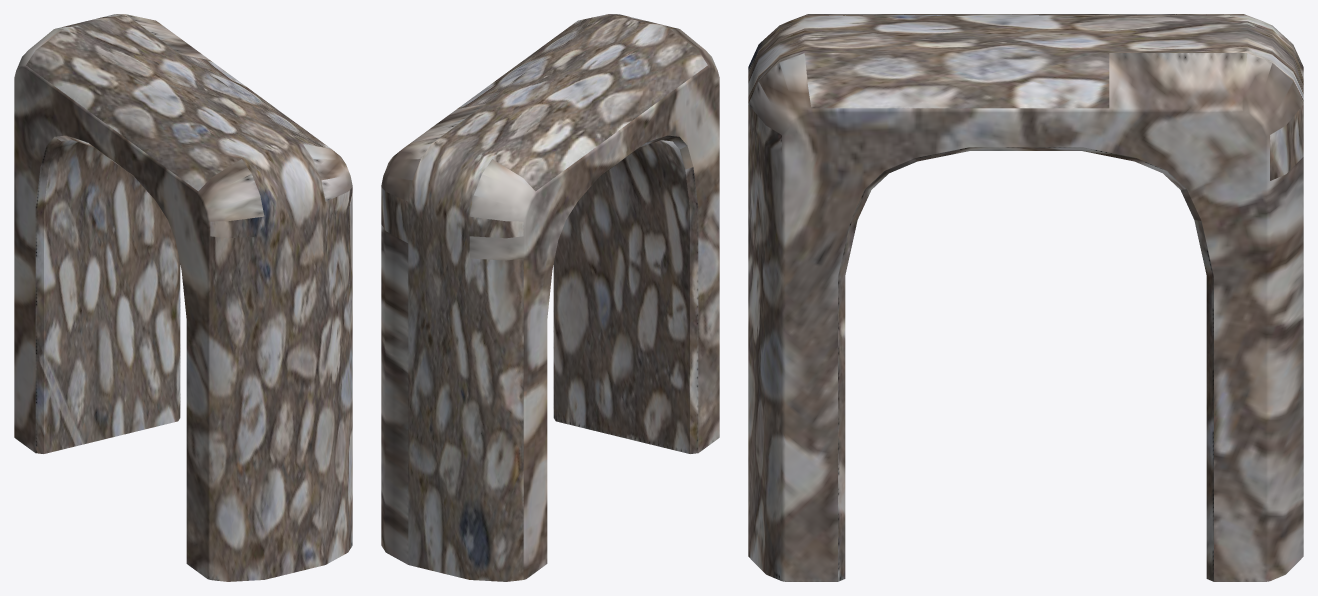
File: arch.fbx
3 views of the same model, side by side, from view 1: azimuth 30°, elevation 25°; view 2: azimuth 150°, elevation 25°; view 3: azimuth 270°, elevation 25° (orthographic). The views are drawn at different scales.
Parts seen in each view (by area): view 1: pCube1; view 2: pCube1; view 3: pCube1.
Boxes of the visible parts, x1,y1,x2,y2 form: pCube1: [14, 14, 352, 581]; pCube1: [381, 14, 719, 581]; pCube1: [748, 14, 1303, 581].
Bounding box in the file's own units: 0.75 × 2 × 2.
1 material, 1 textured.
